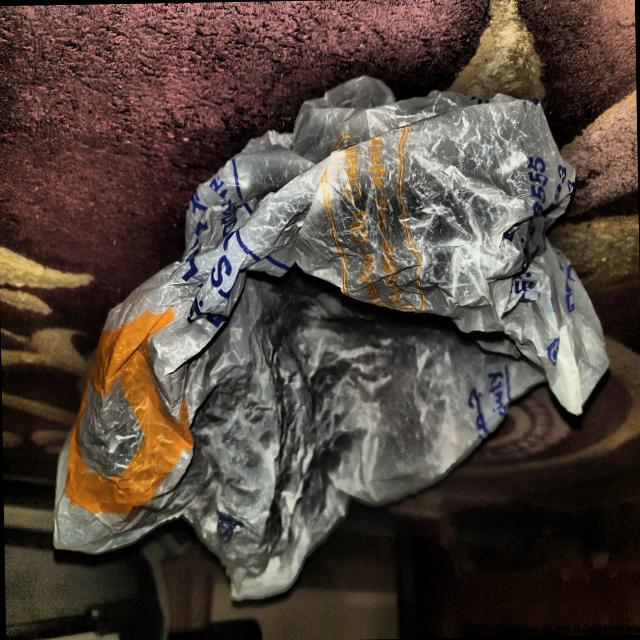plastic bag: (39, 63, 620, 614)
